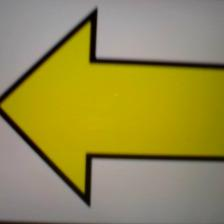left: (3, 10, 221, 199)
